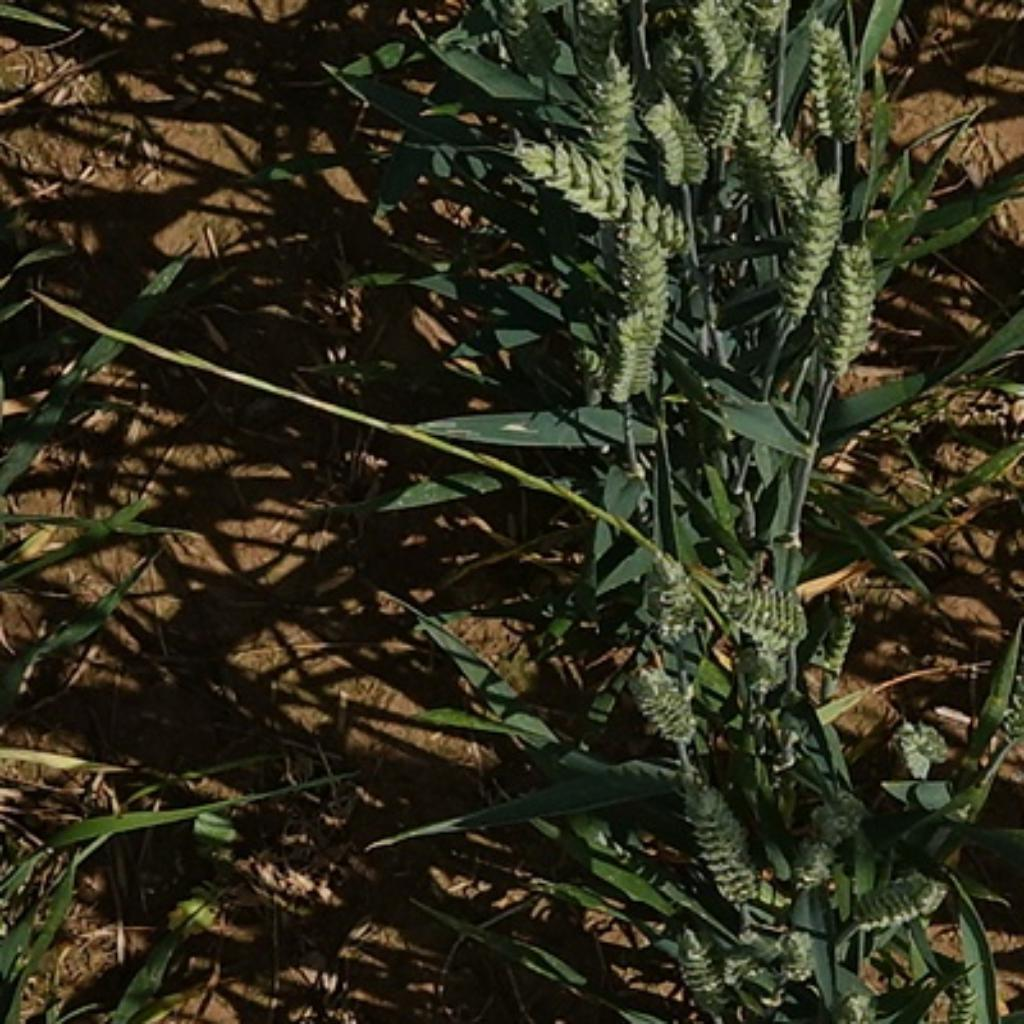0-0: (512, 130, 704, 253), (765, 184, 847, 327), (675, 770, 760, 906), (734, 117, 829, 227), (793, 7, 867, 143), (706, 560, 808, 655), (696, 51, 773, 174), (698, 43, 788, 140), (688, 2, 778, 97), (606, 220, 675, 340), (839, 862, 954, 931), (831, 230, 883, 374), (632, 545, 706, 642), (619, 655, 698, 742), (576, 56, 637, 158), (645, 92, 709, 181), (678, 932, 737, 1024), (611, 304, 655, 419), (783, 834, 842, 896), (563, 332, 611, 407), (890, 716, 947, 775), (811, 791, 867, 849), (815, 606, 855, 671), (778, 926, 819, 988)
